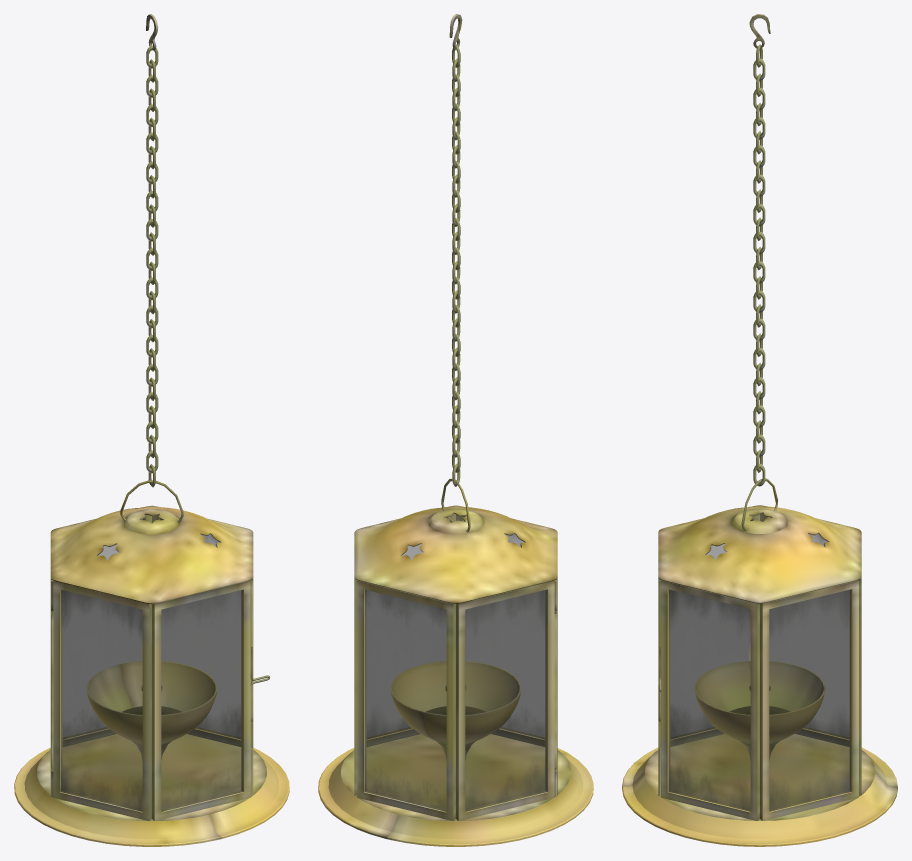
3 renders of one model, left to right at view 1: azimuth 30°, elevation 25°; view 2: azimuth 150°, elevation 25°; view 3: azimuth 270°, elevation 25°, orthographic.
Visible parts, largest first — view 1: brass_diya_lantern, brass_diya_lantern_chain; view 2: brass_diya_lantern, brass_diya_lantern_chain; view 3: brass_diya_lantern, brass_diya_lantern_chain.
Boxes of the visible parts, <box> form: brass_diya_lantern: <box>14,505,289,846</box>; brass_diya_lantern_chain: <box>146,14,158,487</box>; brass_diya_lantern: <box>318,505,593,846</box>; brass_diya_lantern_chain: <box>449,14,462,486</box>; brass_diya_lantern: <box>622,505,897,846</box>; brass_diya_lantern_chain: <box>749,14,770,486</box>.
Bounding box in the file's own units: 0.123 × 0.3808 × 0.123.
Materials: 3 (3 with a texture image).
